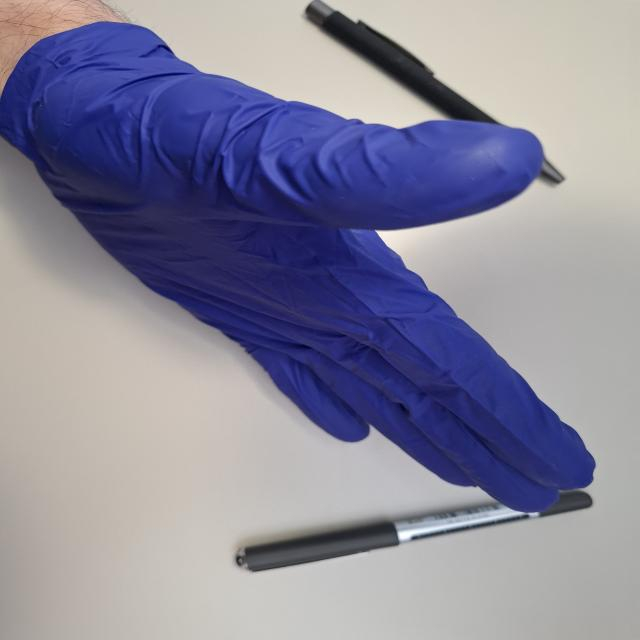glove_on: (4, 13, 603, 517)
